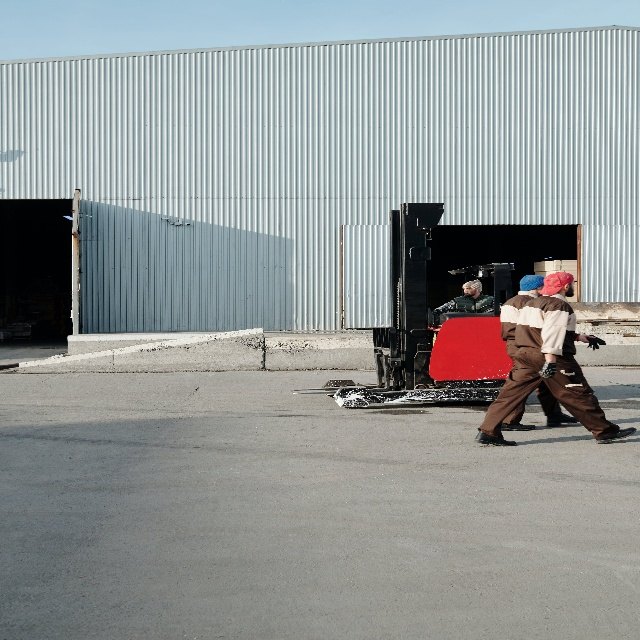Guantes: (538, 360, 557, 379)
Sin_guantes: (579, 333, 596, 344)
